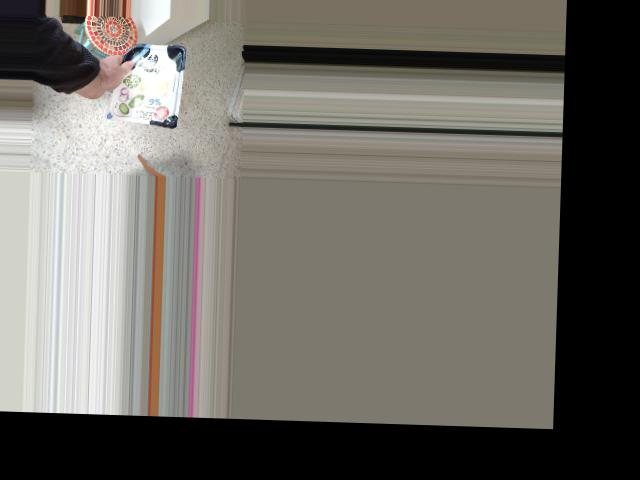cheese: (81, 43, 168, 127)
